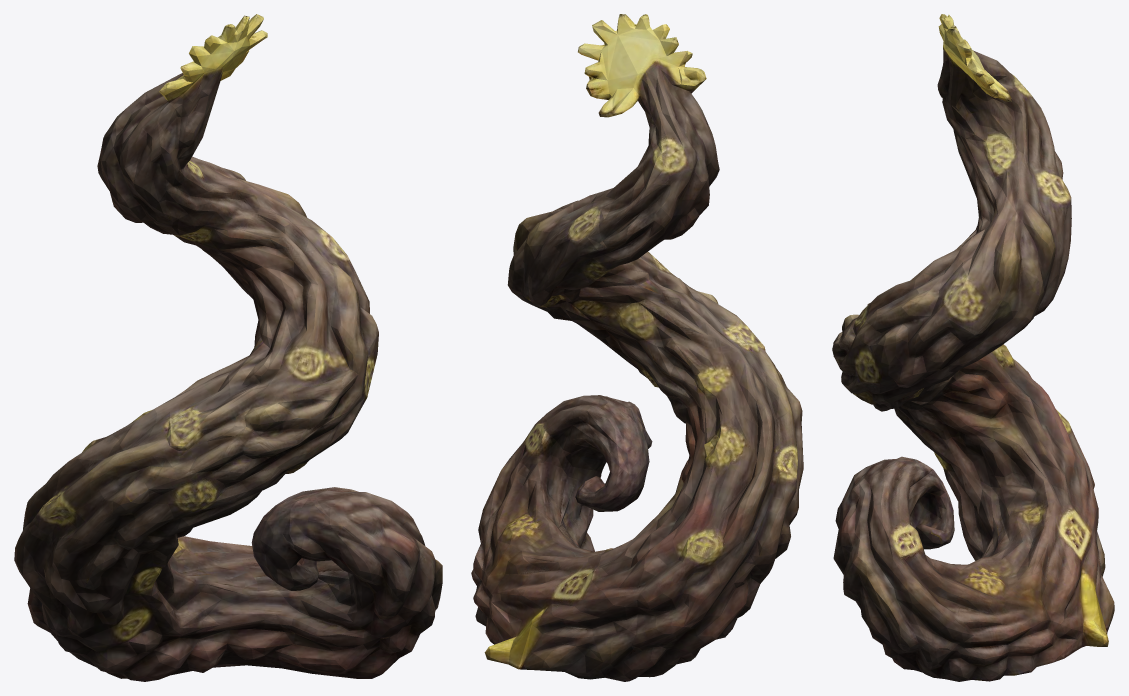
File: sunTendril.glb
The picture shows the model from 3 angles, left to right: view 1: azimuth 30°, elevation 25°; view 2: azimuth 150°, elevation 25°; view 3: azimuth 270°, elevation 25°; orthographic projection. The views are drawn at different scales.
Parts seen in each view (by area): view 1: world; view 2: world; view 3: world.
Boxes of the visible parts, <box> form: world: <box>14,14,442,681</box>; world: <box>471,14,803,681</box>; world: <box>832,14,1114,681</box>.
Bounding box in the file's own units: 0.5712 × 0.9993 × 0.4269.
Materials: 1 (1 with a texture image).
